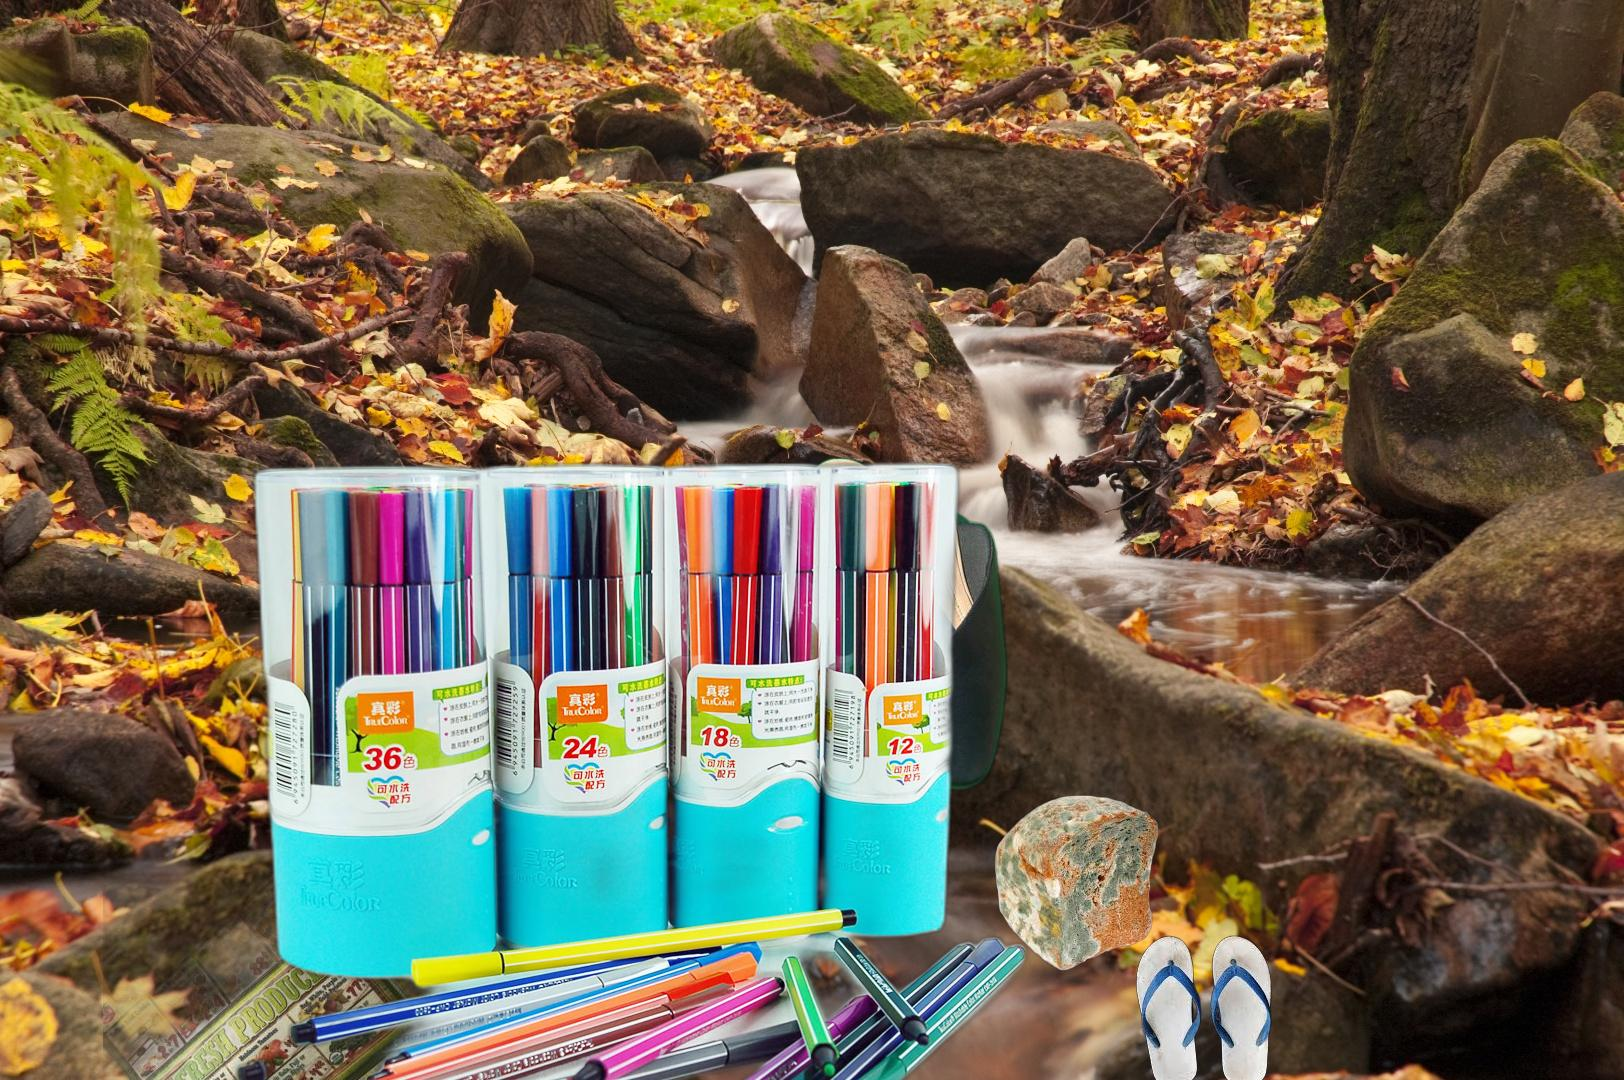biological: (992, 793, 1161, 972)
paper: (102, 747, 614, 1080)
penholder: (195, 454, 1031, 1080)
shoes: (684, 453, 1075, 844), (1132, 933, 1273, 1080)
trashbox-cardboard: (747, 477, 828, 675)
